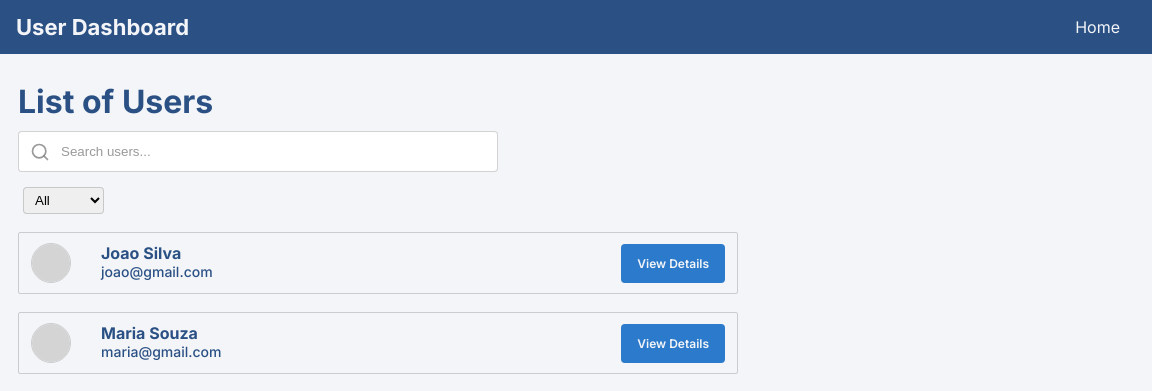
Test: Users E2E › deve filtrar usuarios por texto
Type "maria" into the field with class "inputSearchUser".
click(258, 152); type("maria")  # box [18,131,498,172]
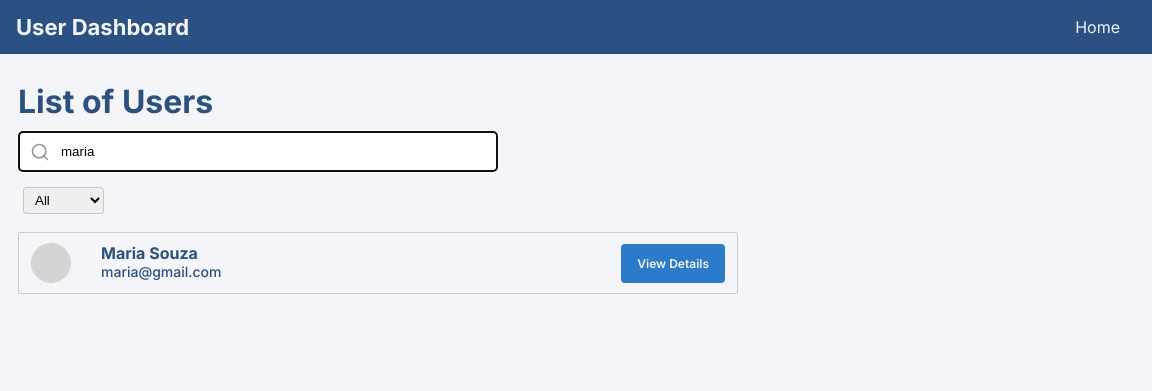
Expected: the heading "Maria Souza" is shown, [101,243,198,263]
Expected: the number of list items with class "Users" is 1, [18,232,738,294]
Expected: the heading "Joao Silva" is gone
